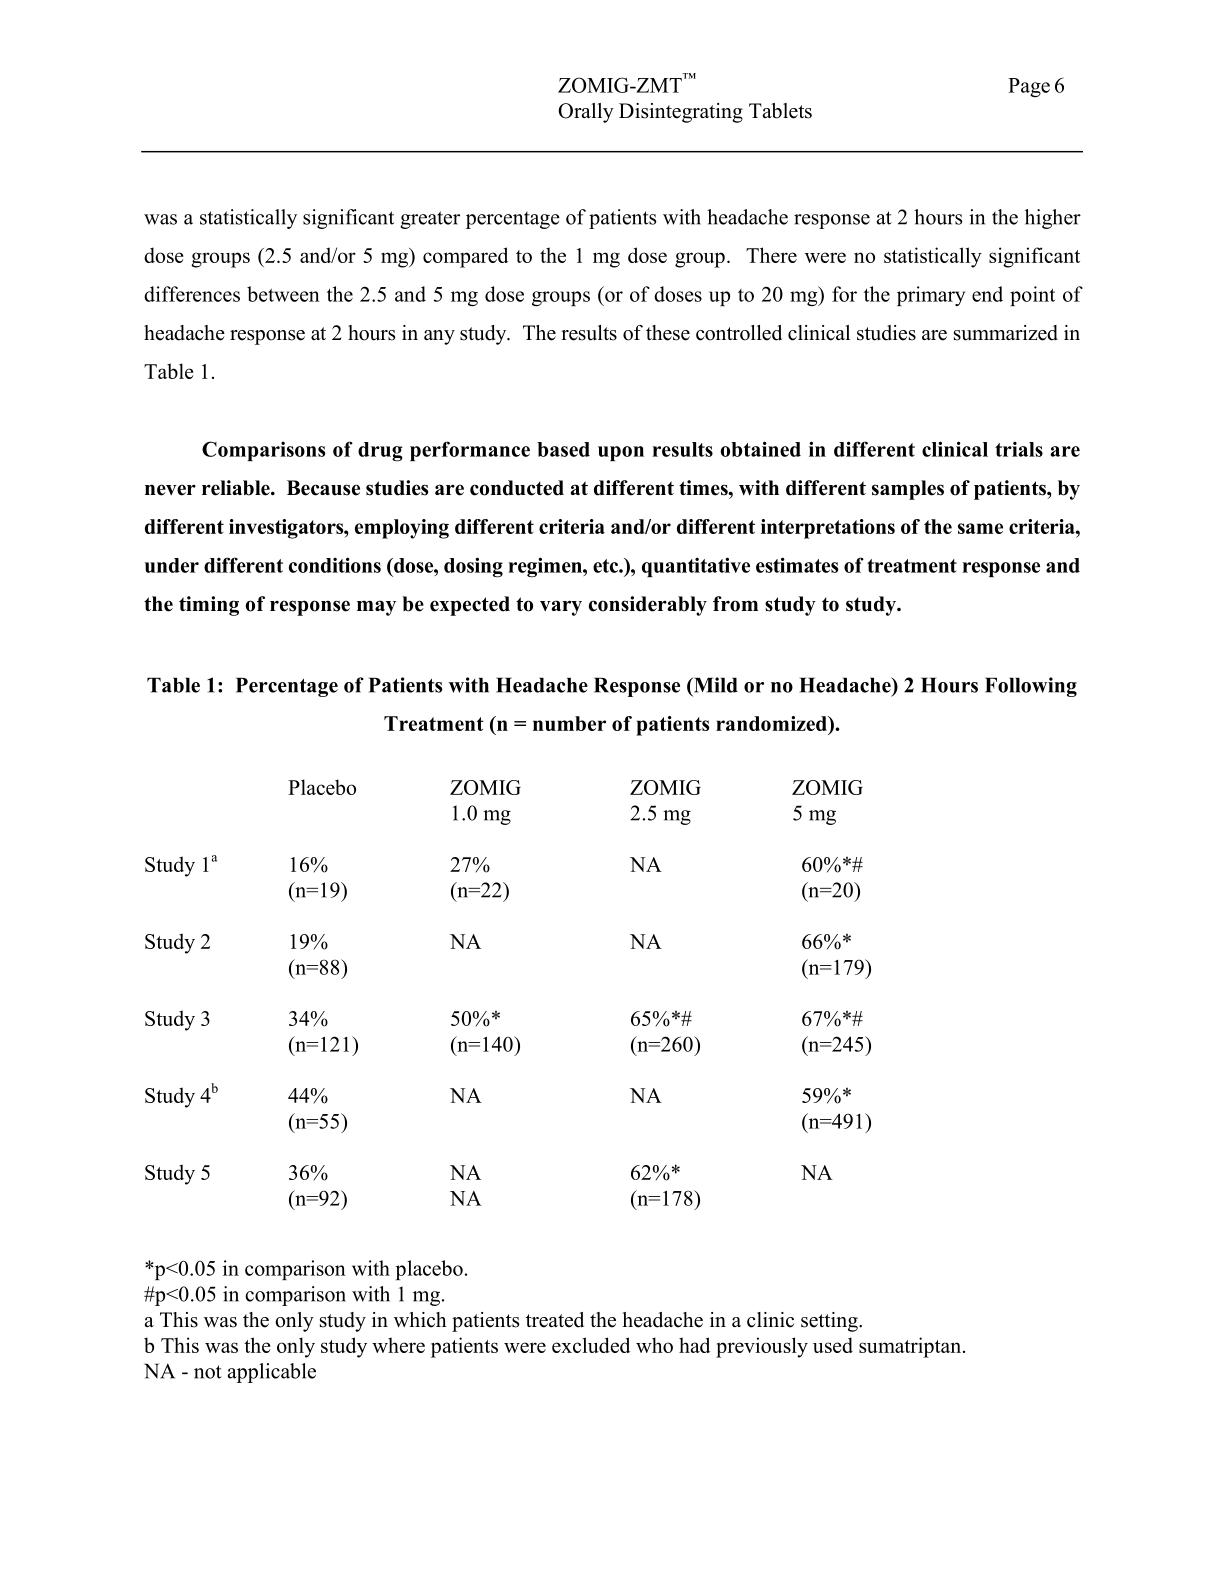nolines: (139, 775, 877, 1218)
